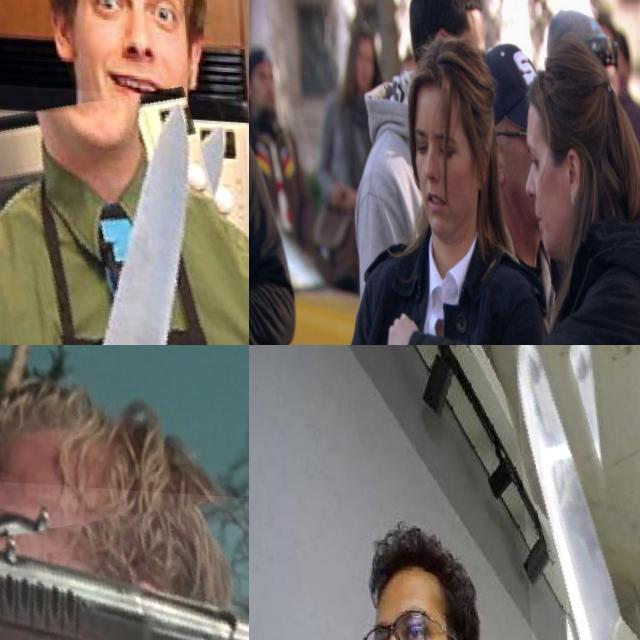-: (0, 82, 249, 345), (513, 345, 640, 640)
gun-knife-thesis - v11 Yolov5 augmented: (0, 475, 249, 640)
